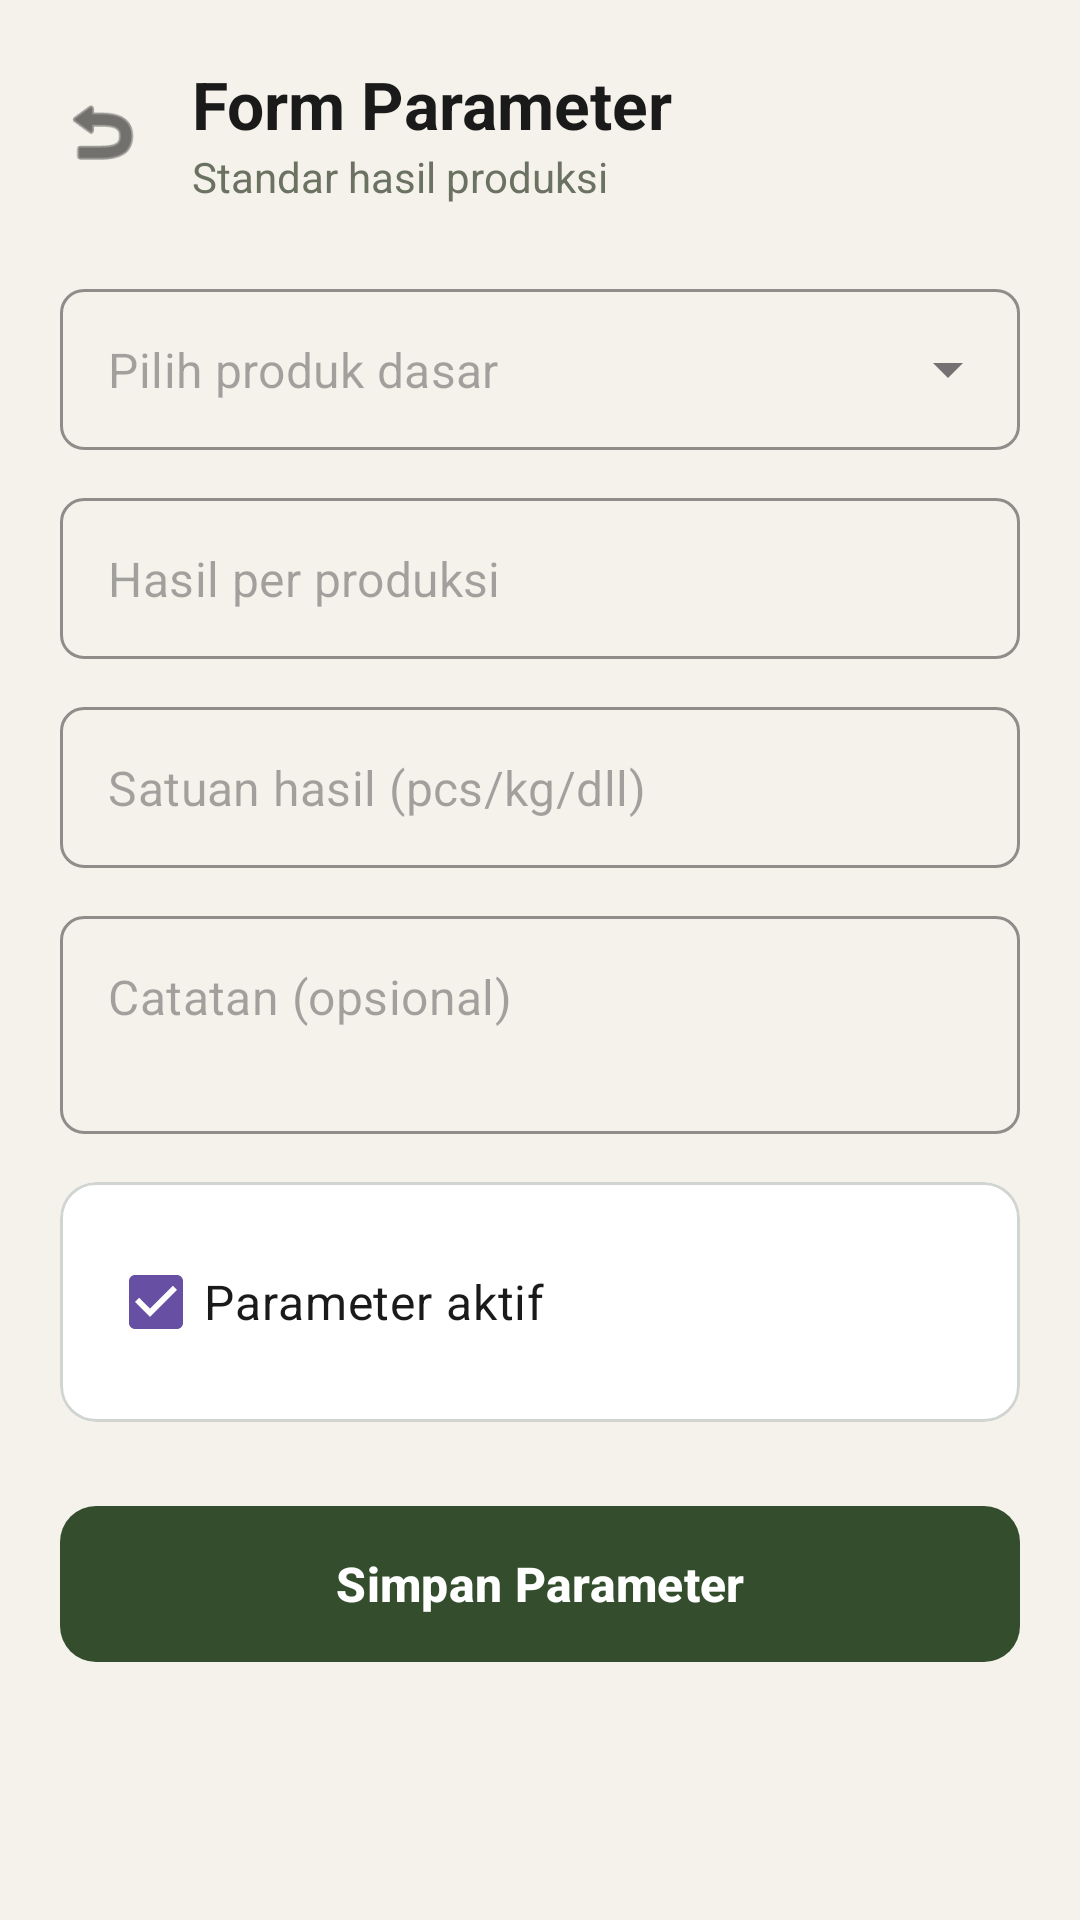

Point at icon controls on the screen. Image size 1080w x 1920h, points as [x,y].
revert: [103,132]
